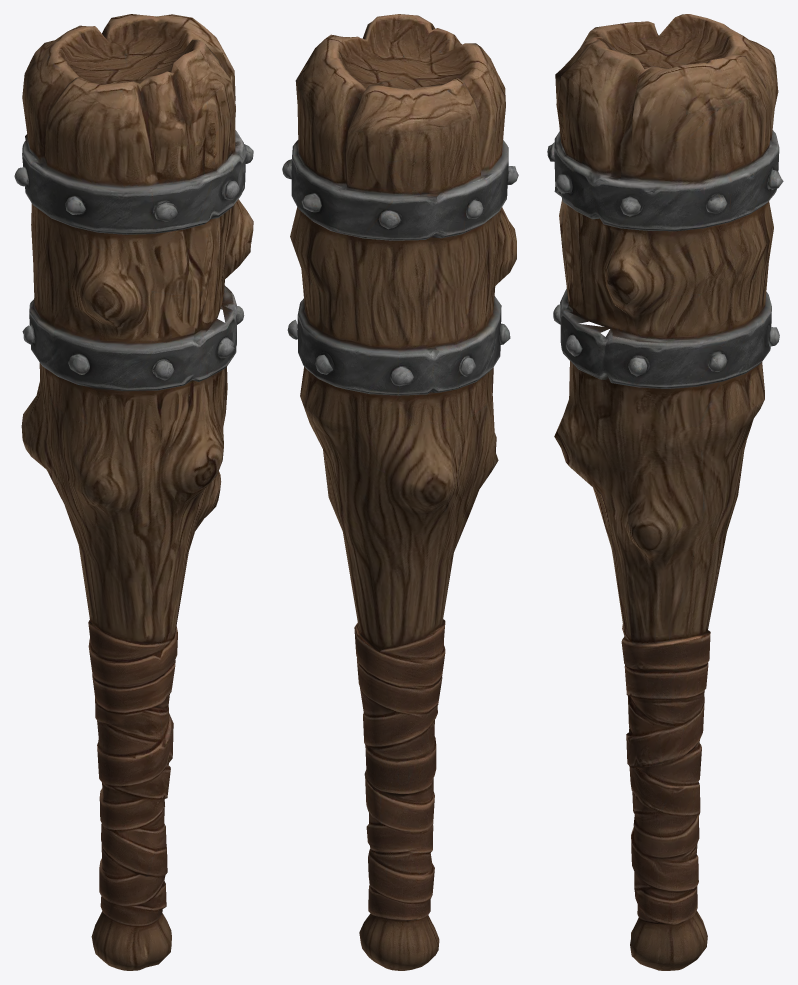
Rendered from weapon_club.glb.
3 views of the same model, side by side, from view 1: azimuth 30°, elevation 25°; view 2: azimuth 150°, elevation 25°; view 3: azimuth 270°, elevation 25° (orthographic).
Size of the model in its own units: 0.2148 by 0.9507 by 0.2177.
Materials: 1 (1 with a texture image).
